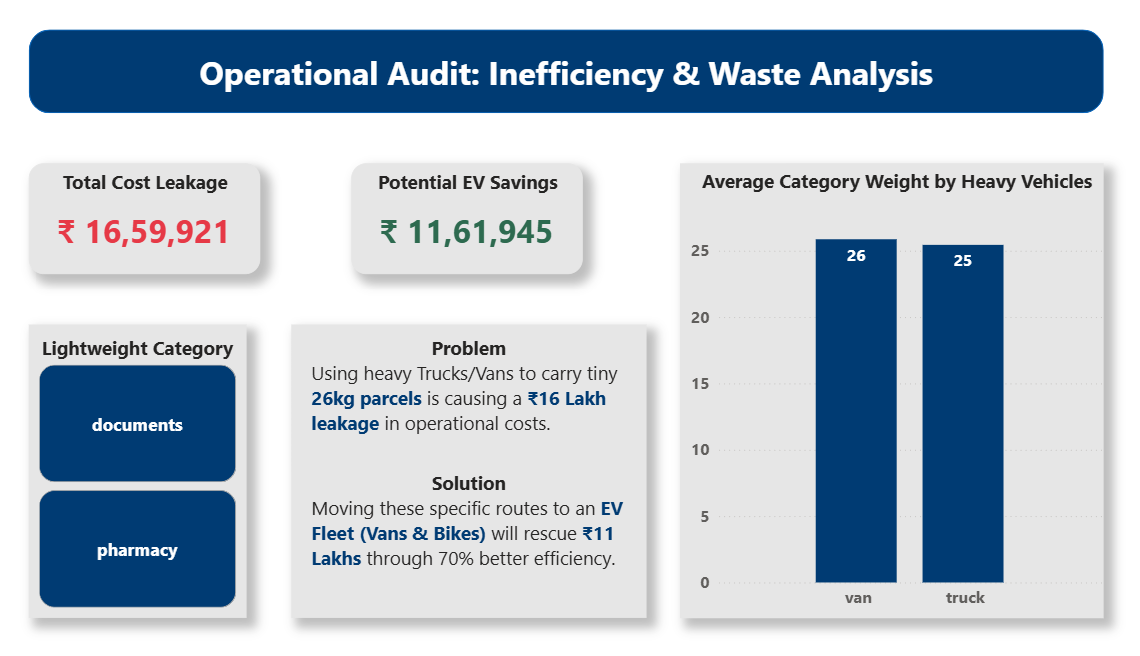

The dashboard page shown, as its layout file describes it:
{"tool":"powerbi","page":{"name":"Page 2","canvas":[1280,720],"ordinal":1},"visuals":[{"type":"shape","box":[294.8,52.2,767.5,83.3],"z":0},{"type":"card","title":"Total Cost Leakage","fields":{"Values":["Sum(India_Logistics_Cleaned_Audit.delivery_cost)"]},"box":[128.1,185.3,230.1,110.7],"z":1000},{"type":"clusteredColumnChart","title":"Average Category Weight by Heavy Vehicles","fields":{"Category":["India_Logistics_Cleaned_Audit.vehicle_type"],"Y":["Avg(India_Logistics_Cleaned_Audit.package_weight_kg)"]},"box":[776.2,185.3,421.7,452.8],"z":2000},{"type":"advancedSlicerVisual","title":"Lightweight Category","fields":{"Values":["India_Logistics_Cleaned_Audit.package_type"]},"box":[128.1,345.8,216.4,292.3],"z":3000},{"type":"card","title":"Potential EV Savings","fields":{"Values":["India_Logistics_Cleaned_Audit.Potential_Savings"]},"box":[449.1,185.3,230.1,110.7],"z":4000},{"type":"textbox","box":[389.4,345.8,353.3,292.3],"z":5000}]}

Visuals, with their boxes in screenshot pixels (x1, y1, x2, y2), scaled from the page's 1280x720 canvas onto the 1140x656 screenshot:
shape: l=263, t=48, r=946, b=123
"Total Cost Leakage" card: l=114, t=169, r=319, b=270
"Average Category Weight by Heavy Vehicles" clusteredColumnChart: l=691, t=169, r=1067, b=581
"Lightweight Category" advancedSlicerVisual: l=114, t=315, r=307, b=581
"Potential EV Savings" card: l=400, t=169, r=605, b=270
textbox: l=347, t=315, r=661, b=581
